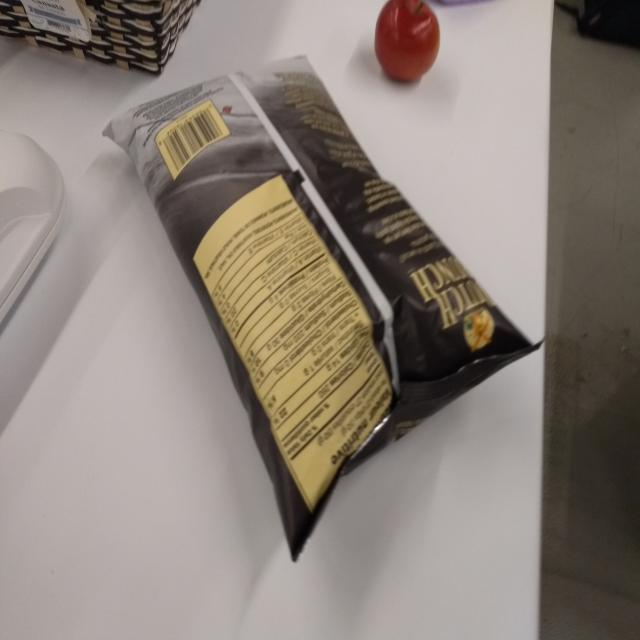potato_chips: (99, 46, 545, 563)
